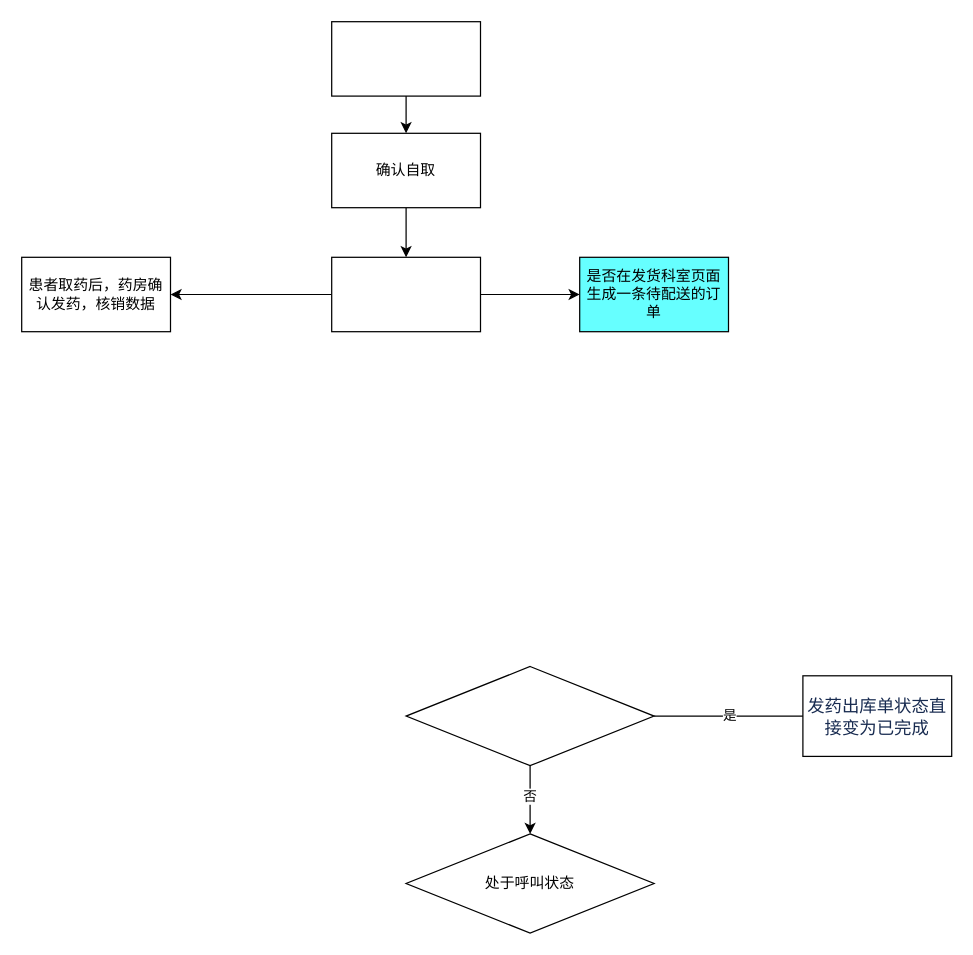
Image size: 973x955. Some labels were removed from this diagram. Each missing label, with the centre of its shape:
"单据已自取" belongs at [405,294].
"待确认" belongs at [405,58].
"药房未点击发药" belongs at [529,715].
